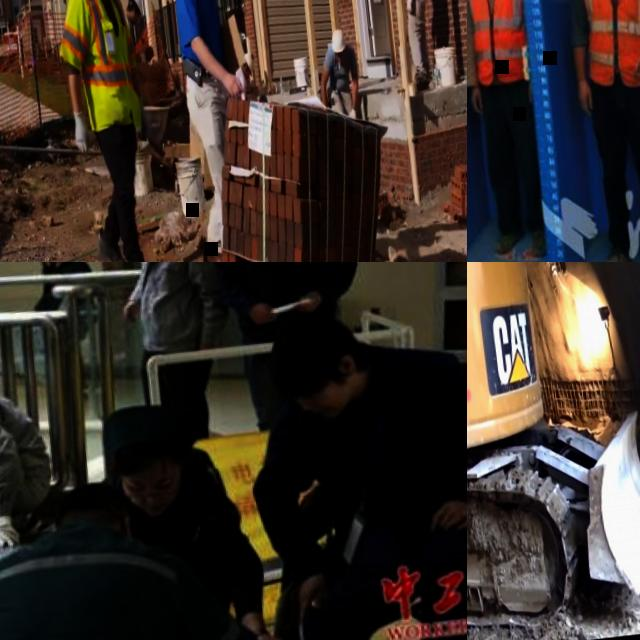Hardhat: (329, 25, 346, 51), (243, 52, 256, 73), (128, 0, 141, 12)
NO-Hardhat: (263, 312, 346, 398), (106, 412, 190, 471), (49, 478, 130, 526)
NO-Mask: (312, 386, 356, 420), (132, 493, 178, 519), (336, 56, 344, 67)
NO-Safety Vest: (293, 344, 467, 537), (0, 522, 188, 640), (130, 472, 223, 602), (127, 262, 212, 351), (223, 262, 341, 321), (0, 384, 46, 479), (173, 0, 226, 79), (40, 262, 90, 302), (327, 47, 356, 97), (236, 66, 250, 99), (125, 21, 136, 47)
Person: (234, 293, 467, 640), (0, 462, 272, 640), (93, 392, 281, 640), (48, 0, 162, 262), (203, 262, 371, 433), (105, 262, 240, 452), (163, 0, 260, 262), (467, 0, 552, 262), (556, 0, 640, 262), (0, 331, 56, 568), (26, 262, 105, 401), (315, 24, 364, 124), (393, 0, 435, 88), (123, 0, 146, 61), (234, 52, 258, 97)
Safety Vest: (52, 0, 137, 134), (577, 0, 640, 92), (467, 0, 533, 87)
vehicle: (467, 262, 640, 640)
